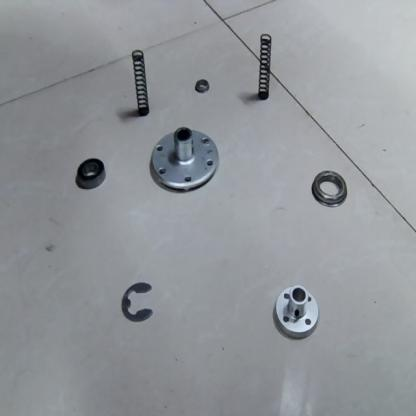FOD: (148, 122, 221, 195), (272, 281, 321, 340), (118, 279, 156, 328), (129, 47, 151, 120), (310, 170, 348, 210), (71, 154, 108, 194), (256, 27, 274, 106), (191, 77, 212, 95)
